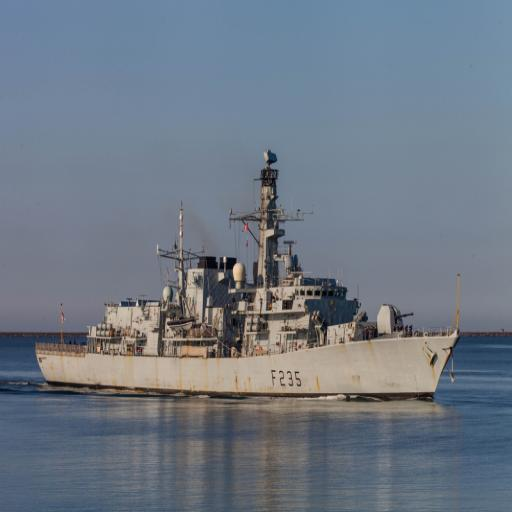Fragata: (33, 128, 464, 408)
